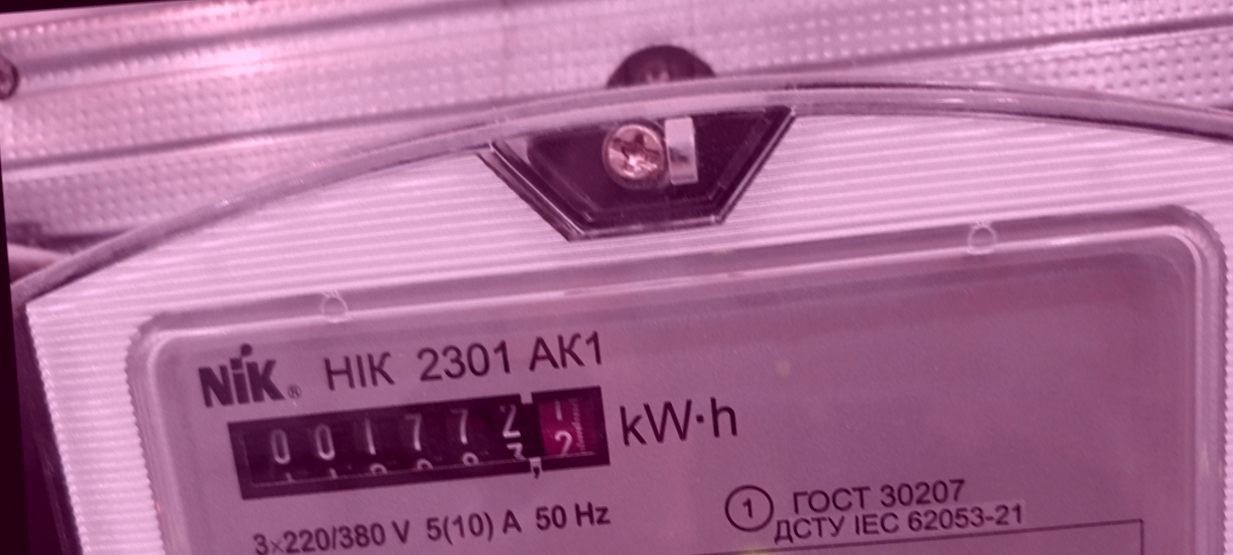0: (265, 422, 295, 465), (312, 419, 338, 459)
1: (361, 414, 380, 454), (551, 396, 566, 422)
2: (498, 401, 523, 439), (551, 426, 576, 455)
3: (505, 438, 528, 461)
7: (403, 409, 428, 452), (449, 405, 473, 445)
screen: (215, 372, 629, 511)
